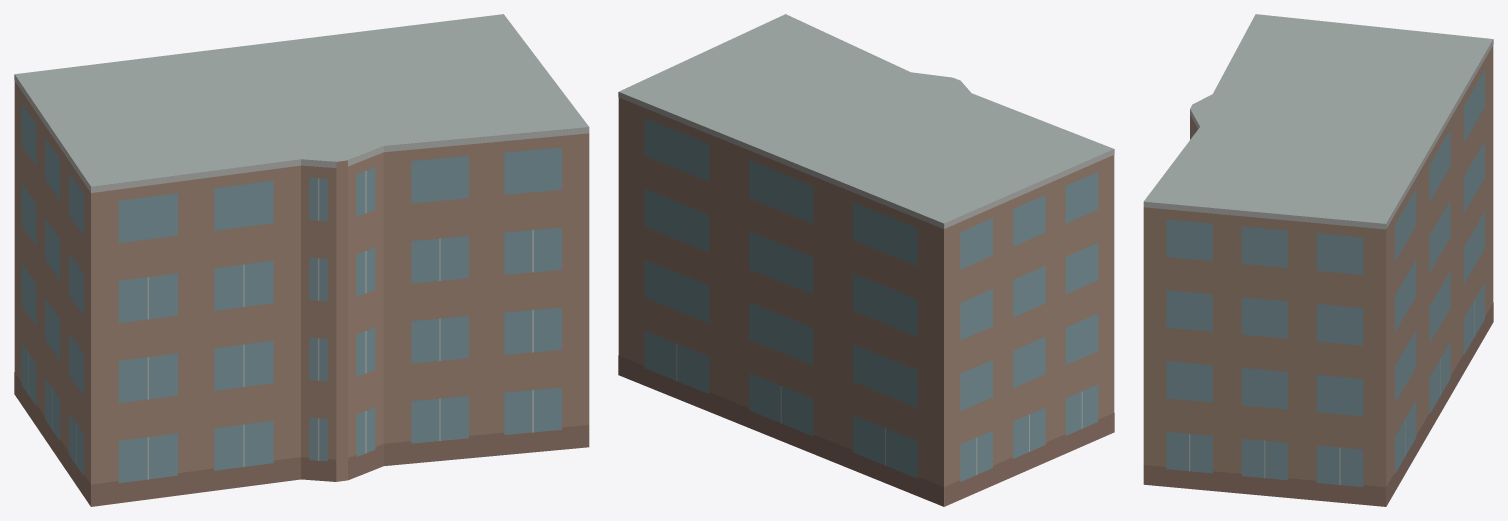
File: survey-upis-32946333.glb
3 renders of one model, left to right at view 1: azimuth 30°, elevation 25°; view 2: azimuth 150°, elevation 25°; view 3: azimuth 270°, elevation 25°, orthographic. The views are drawn at different scales.
Parts seen in each view (by area): view 1: survey-upis-32946333.tmp; view 2: survey-upis-32946333.tmp; view 3: survey-upis-32946333.tmp.
Part boxes in pixels (bbox=[...]): survey-upis-32946333.tmp: bbox=[14, 14, 589, 506]; survey-upis-32946333.tmp: bbox=[618, 14, 1114, 506]; survey-upis-32946333.tmp: bbox=[1143, 14, 1493, 506].
Bounding box in the file's own units: 19.73 × 12.4 × 13.91.
